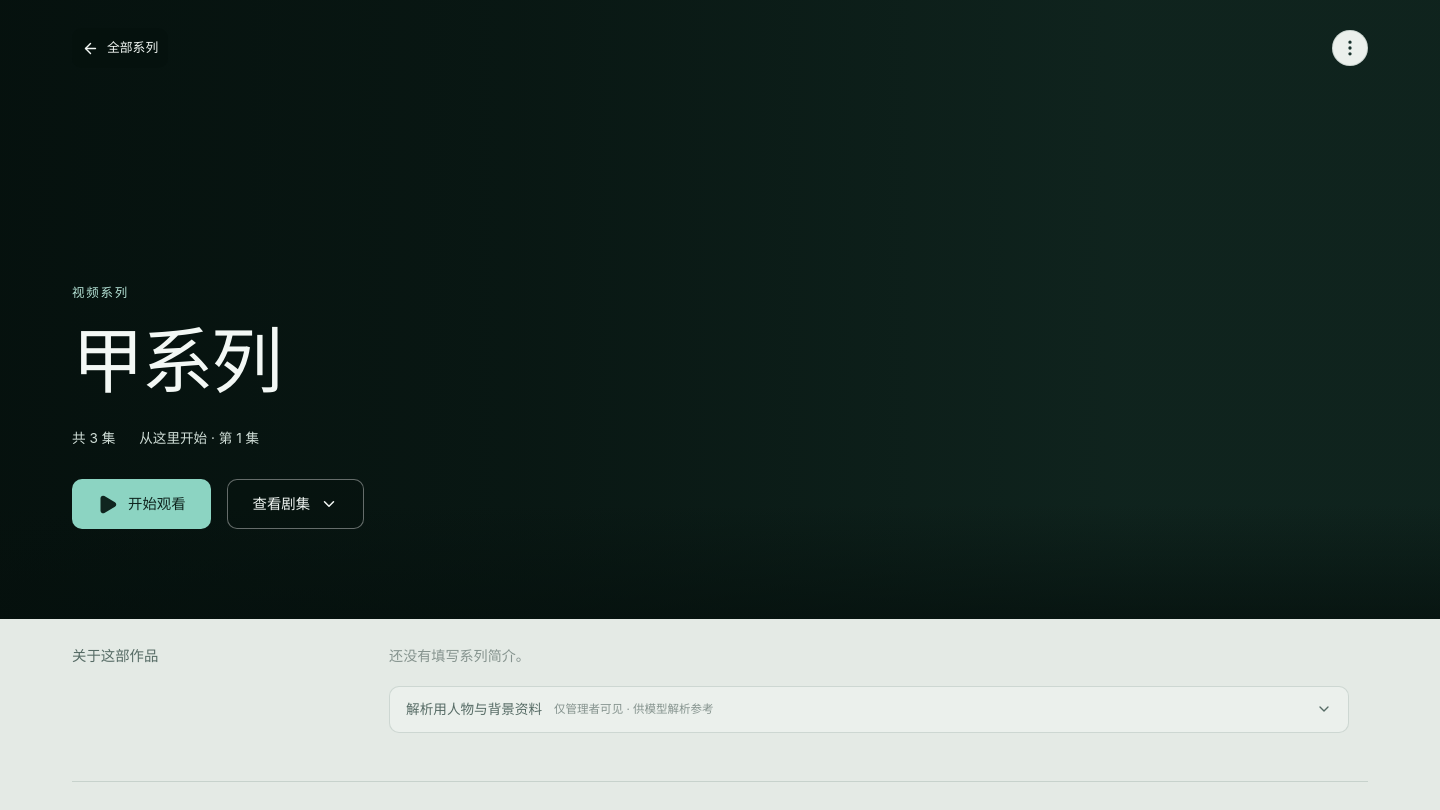
Test: SeriesPage › preserves the original legacy Markdown background in the read-only viewer
The image size is (1440, 810).
What coordinates should you click on to do the following:
click the text "解析用人物与背景资料"
I would click on:
 (474, 709)
Its box is [406,699,542,720].
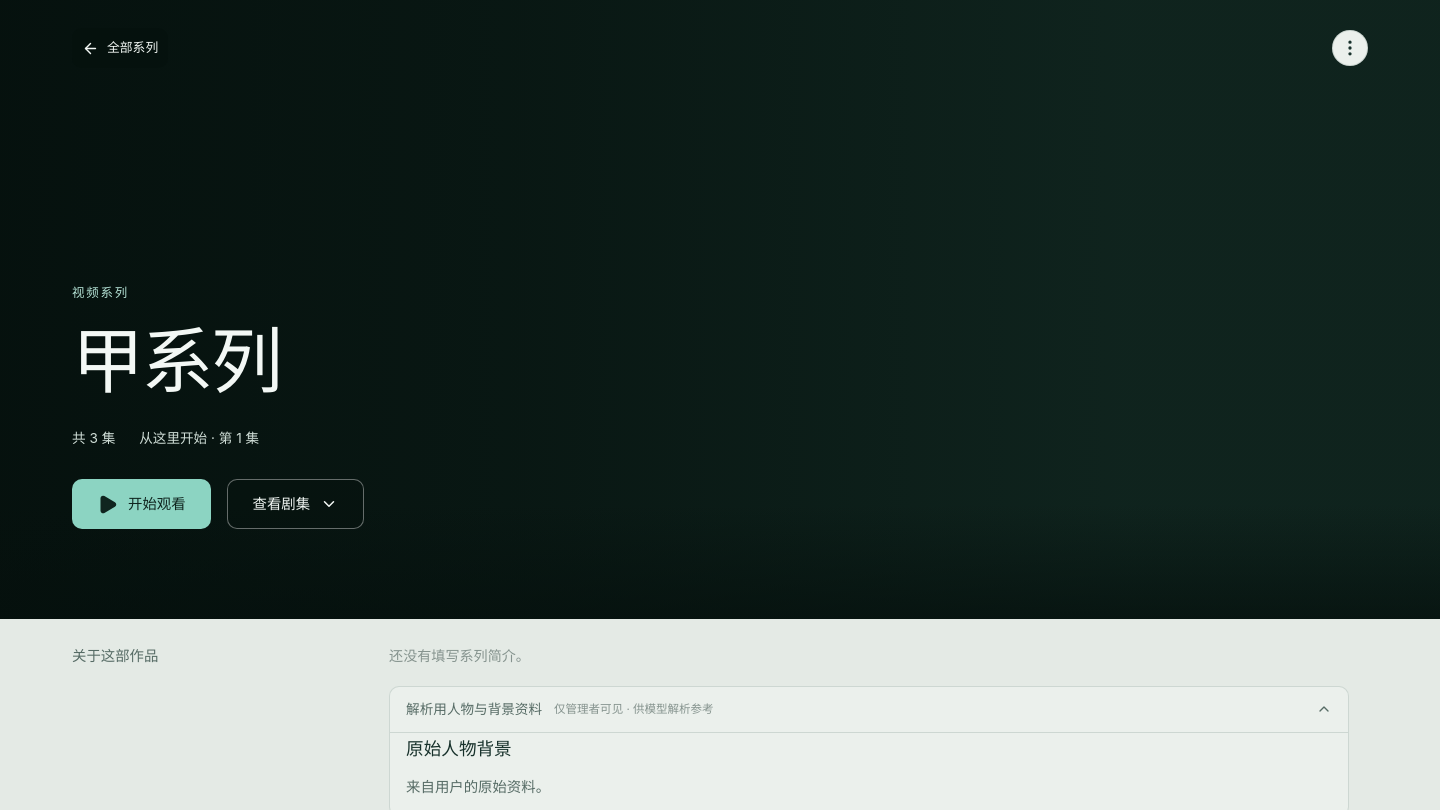
expect the text "还没有填写系列简介。" is shown: met, box [389,647,530,664]
expect the heading "原始人物背景" is shown: met, box [406,738,512,759]
expect the text "来自用户的原始资料。" is shown: met, box [406,778,550,795]
